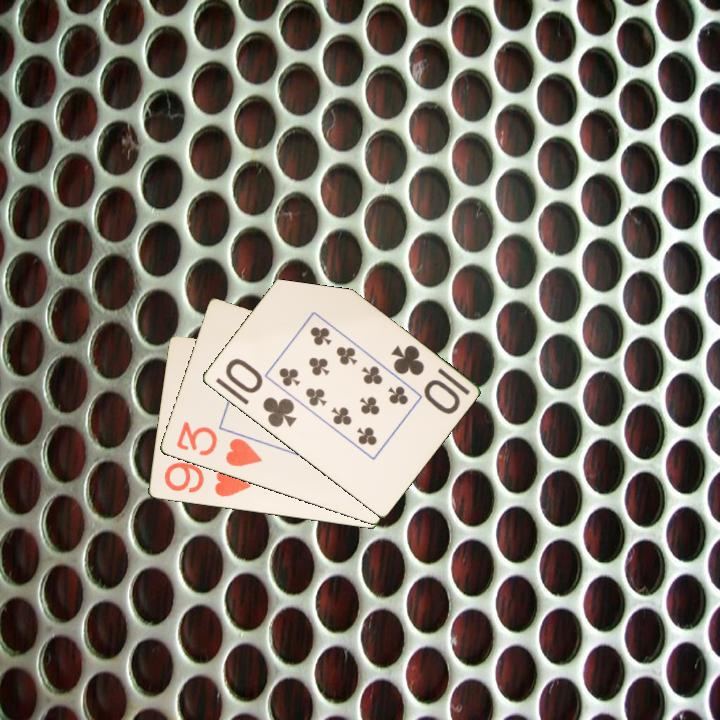10c: (221, 355, 299, 431), (387, 341, 463, 417)
3h: (173, 418, 265, 470)
9h: (160, 459, 254, 500)
